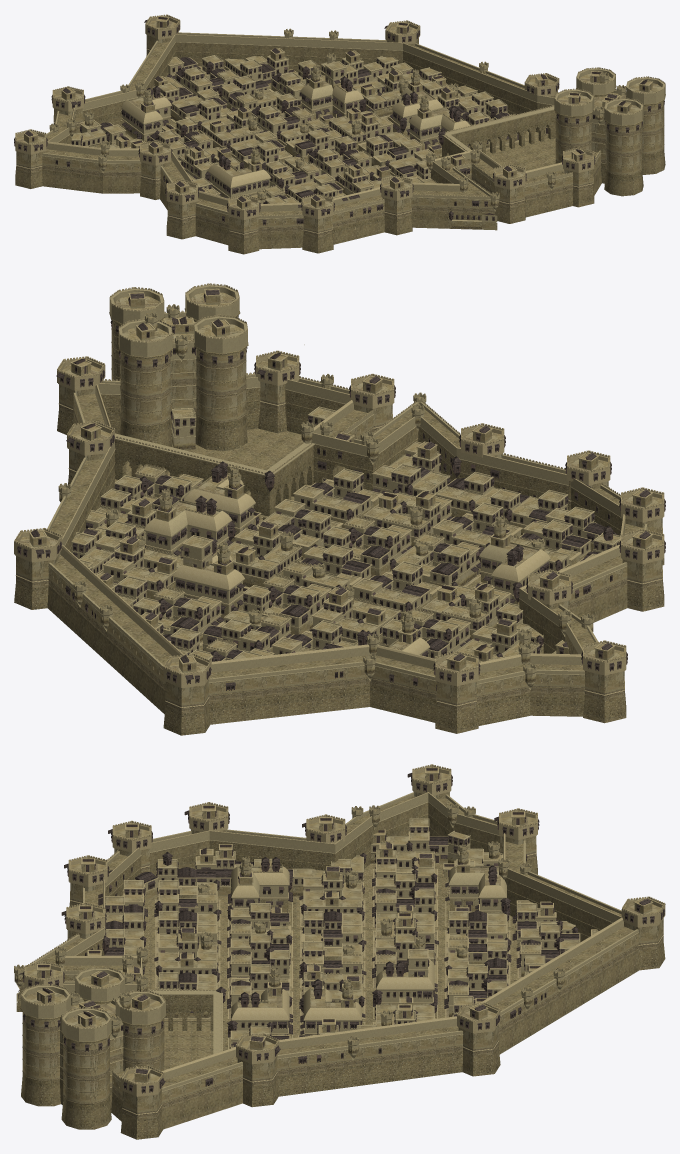
Rendered from PersianCity.fbx.
The picture shows the model from 3 angles, top to bottom: view 1: azimuth 30°, elevation 25°; view 2: azimuth 150°, elevation 25°; view 3: azimuth 270°, elevation 25°; orthographic projection. The views are drawn at different scales.
Visible parts, largest first — view 1: City, Palace; view 2: City, Palace; view 3: City, Palace.
Boxes of the visible parts, x1,y1,x2,y2 form: City: (14, 14, 601, 254); Palace: (554, 67, 665, 196); City: (14, 344, 665, 735); Palace: (109, 283, 248, 451); City: (14, 764, 665, 1139); Palace: (20, 967, 166, 1129).
Bounding box in the file's own units: 220613 × 35097 × 190058.
8 materials, 8 textured.
